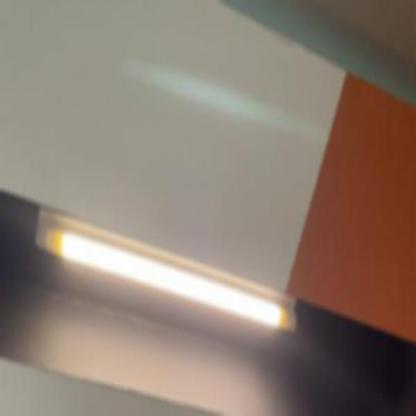light_on: (29, 194, 300, 348)
